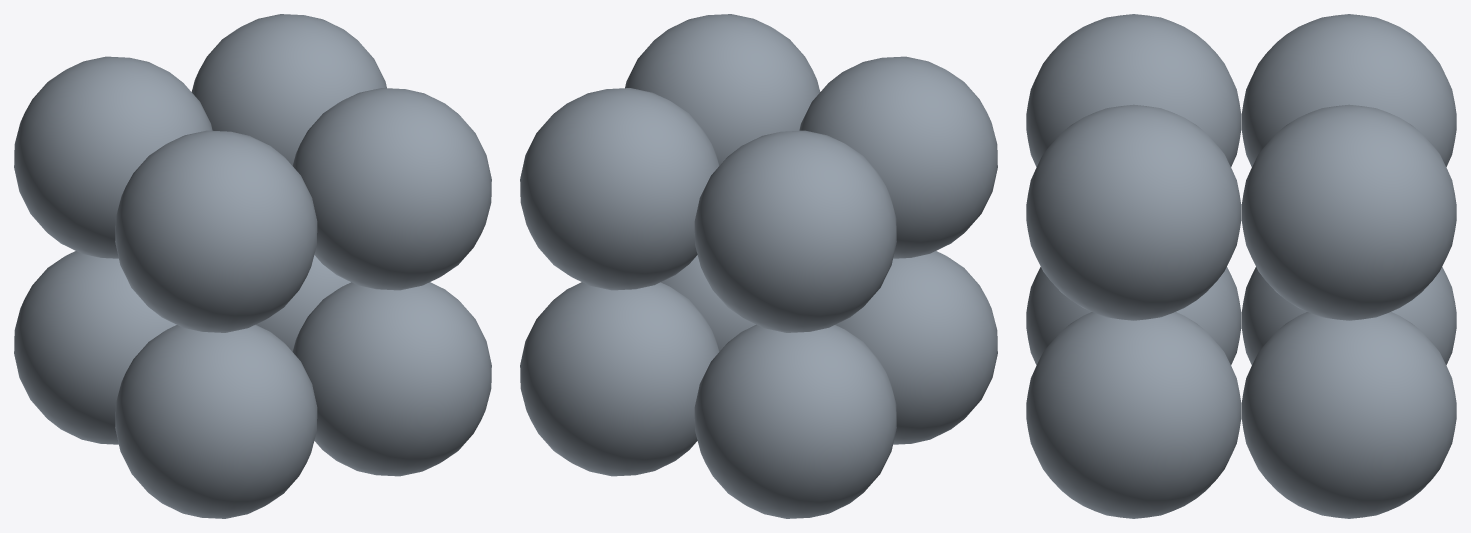
3 renders of one model, left to right at view 1: azimuth 30°, elevation 25°; view 2: azimuth 150°, elevation 25°; view 3: azimuth 270°, elevation 25°, orthographic. The views are drawn at different scales.
Parts seen in each view (by area): view 1: GeoSphere615; view 2: GeoSphere615; view 3: GeoSphere615.
Boxes of the visible parts, <box> form: GeoSphere615: <box>14,14,491,518</box>; GeoSphere615: <box>520,14,997,518</box>; GeoSphere615: <box>1026,14,1456,518</box>.
Size of the model in its own units: 79.45 by 80.37 by 79.51.
1 material, 1 textured.
